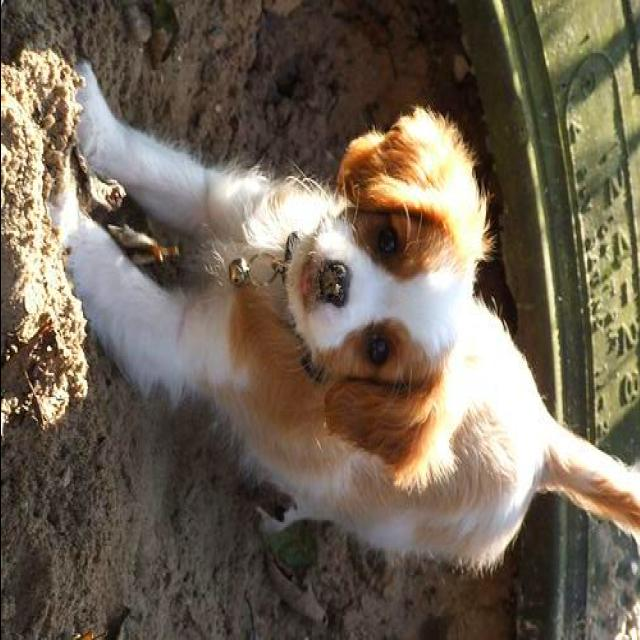blenheim_spaniel: (55, 53, 640, 575)
